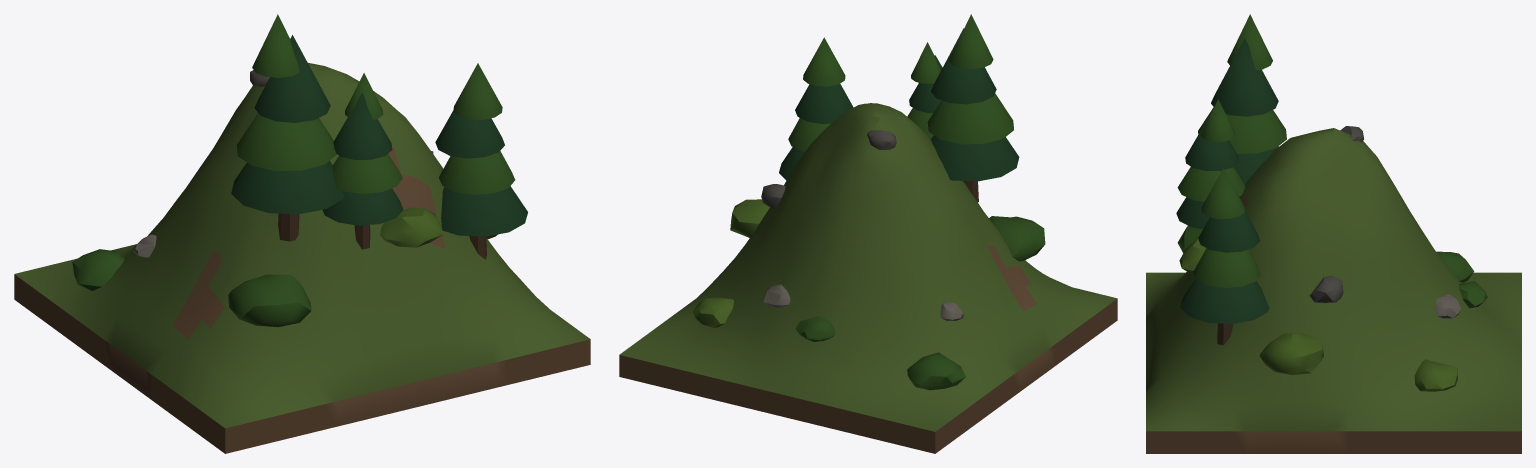
3 views of the same model, side by side, from view 1: azimuth 30°, elevation 25°; view 2: azimuth 150°, elevation 25°; view 3: azimuth 270°, elevation 25° (orthographic). The views are drawn at different scales.
Parts seen in each view (by area): view 1: bk2; view 2: bk2; view 3: bk2.
Boxes of the visible parts, x1,y1,x2,y2 form: bk2: (14,14,590,453); bk2: (619,14,1117,453); bk2: (1146,14,1521,453).
Bounding box in the file's own units: 9 × 8.71 × 9.
